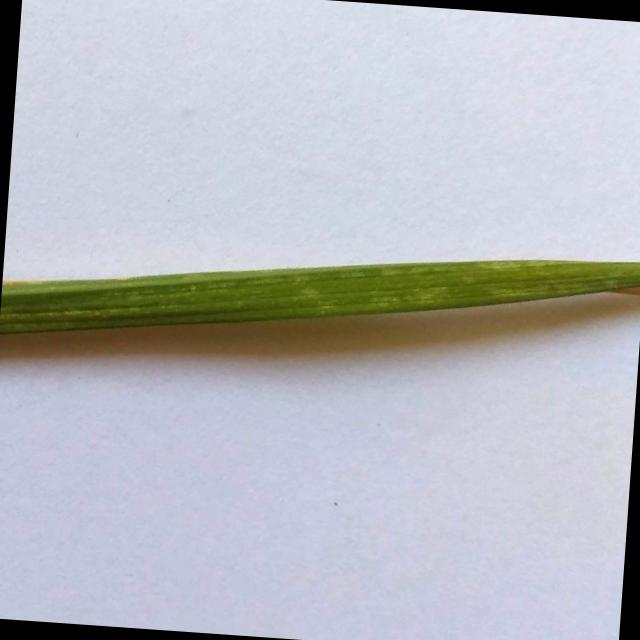Rice_Healthy: (0, 260, 640, 334)
